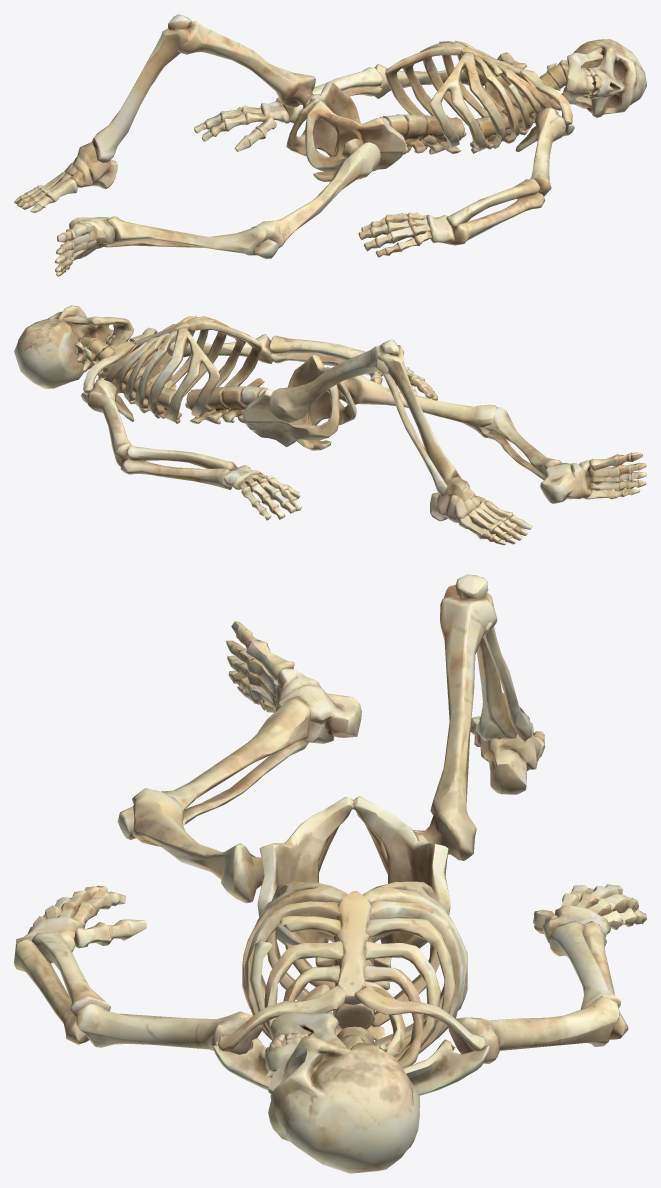
3 renders of one model, top to bottom at view 1: azimuth 30°, elevation 25°; view 2: azimuth 150°, elevation 25°; view 3: azimuth 270°, elevation 25°, orthographic. The views are drawn at different scales.
Parts seen in each view (by area): view 1: SM_Skeleton_02_v1_LOD0; view 2: SM_Skeleton_02_v1_LOD0; view 3: SM_Skeleton_02_v1_LOD0.
Part boxes in pixels (box(x1,y1,x2,y2)): SM_Skeleton_02_v1_LOD0: box(14, 14, 646, 276); SM_Skeleton_02_v1_LOD0: box(14, 305, 646, 545); SM_Skeleton_02_v1_LOD0: box(14, 574, 646, 1173).
Bounding box in the file's own units: 1.79 × 0.4833 × 0.9473.
1 material, 1 textured.
